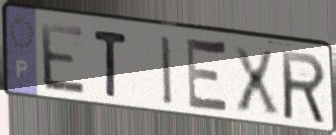E: (37, 20, 89, 98), (185, 33, 232, 118)
I: (158, 33, 175, 109)
R: (278, 48, 328, 127)
T: (91, 26, 130, 101)
X: (230, 44, 282, 118)
